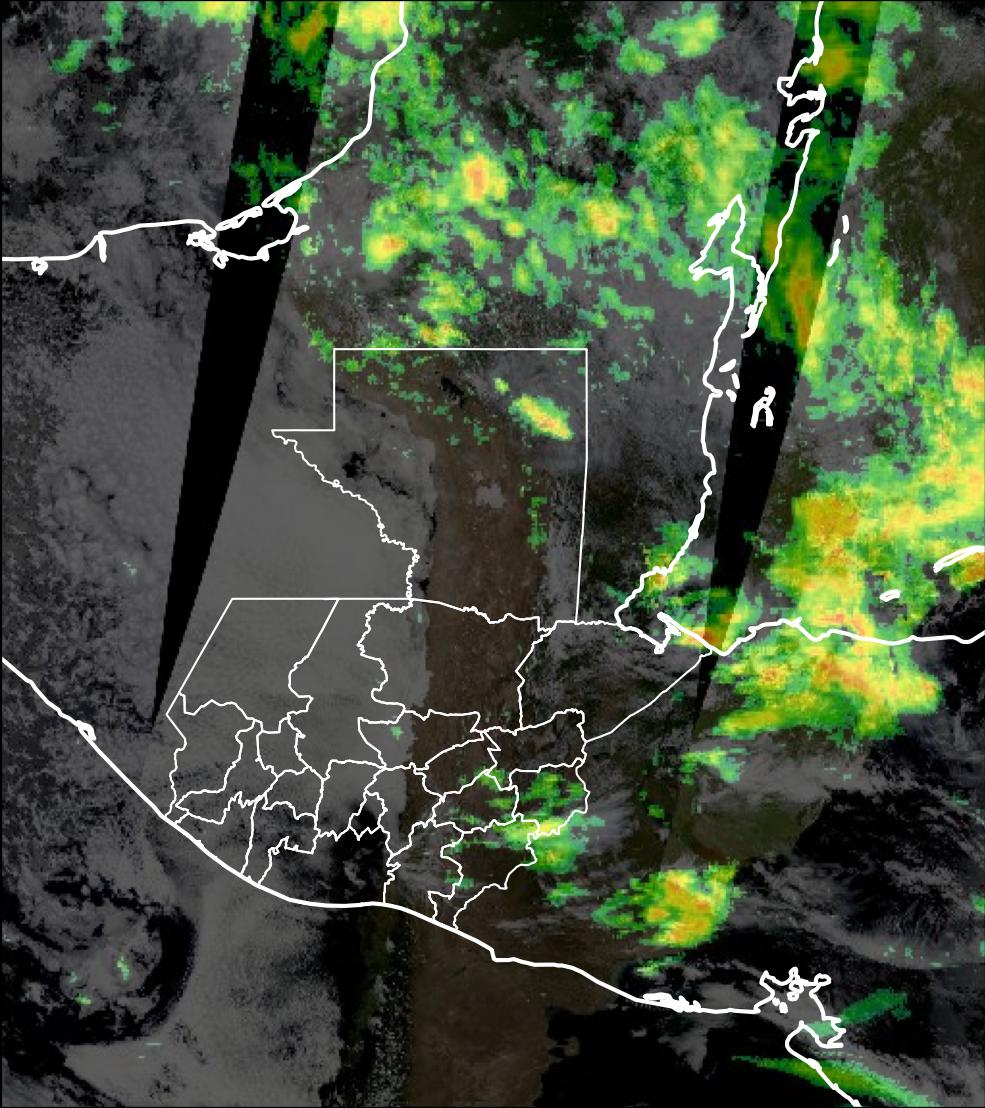precipitacion: (669, 590, 940, 727)
